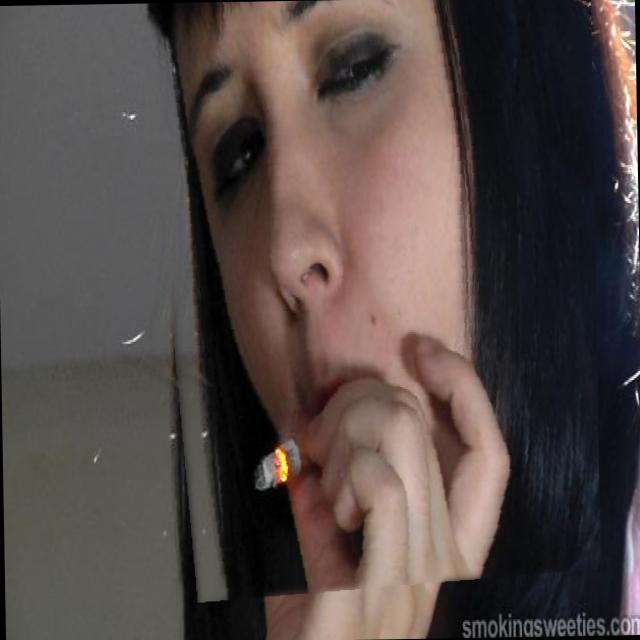cigarette: (195, 412, 318, 525)
